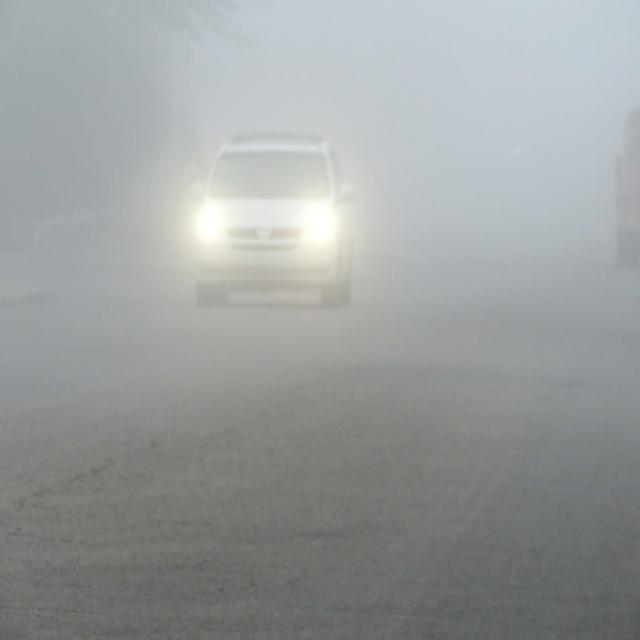car: (192, 138, 359, 301)
